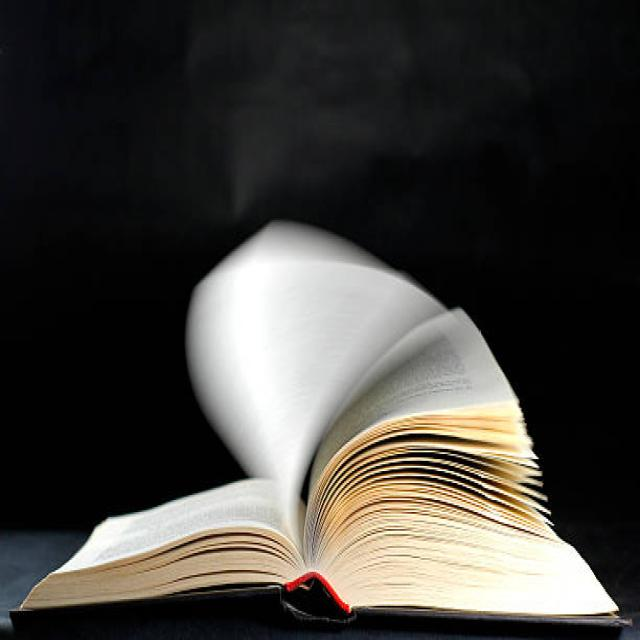electronic: (11, 217, 626, 626)
